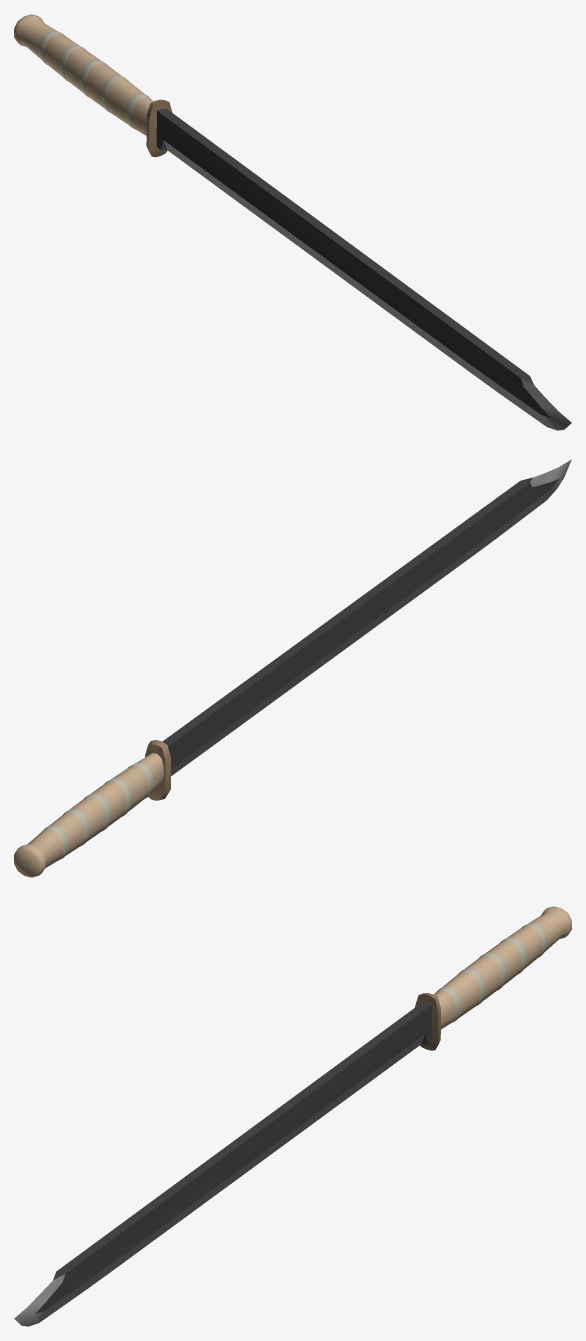
The model's file is BNG_Melee_Katana.fbx.
3 renders of one model, top to bottom at view 1: azimuth 30°, elevation 25°; view 2: azimuth 150°, elevation 25°; view 3: azimuth 330°, elevation 25°, orthographic.
Parts seen in each view (by area): view 1: BNG_Melee_Katana; view 2: BNG_Melee_Katana; view 3: BNG_Melee_Katana.
Part boxes in pixels (x1,y1,x2,y2): BNG_Melee_Katana: (14, 14, 571, 430); BNG_Melee_Katana: (14, 459, 571, 877); BNG_Melee_Katana: (14, 906, 571, 1326).
Bounding box in the file's own units: 32.65 × 62.61 × 1087.
